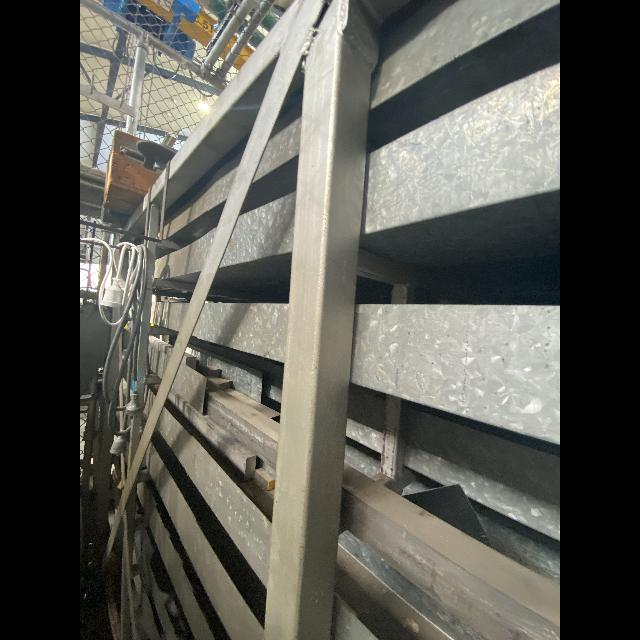Galvanized Steel: (365, 64, 560, 234), (352, 305, 560, 444), (157, 406, 272, 589), (405, 409, 560, 540), (372, 0, 560, 108), (220, 192, 295, 267), (205, 395, 278, 471), (195, 303, 288, 362), (253, 117, 301, 182), (171, 363, 207, 414)
Stainless Steel: (342, 462, 560, 640), (168, 390, 256, 479), (207, 383, 281, 442), (224, 388, 281, 422), (149, 335, 173, 356), (204, 374, 232, 390), (181, 352, 196, 370)
